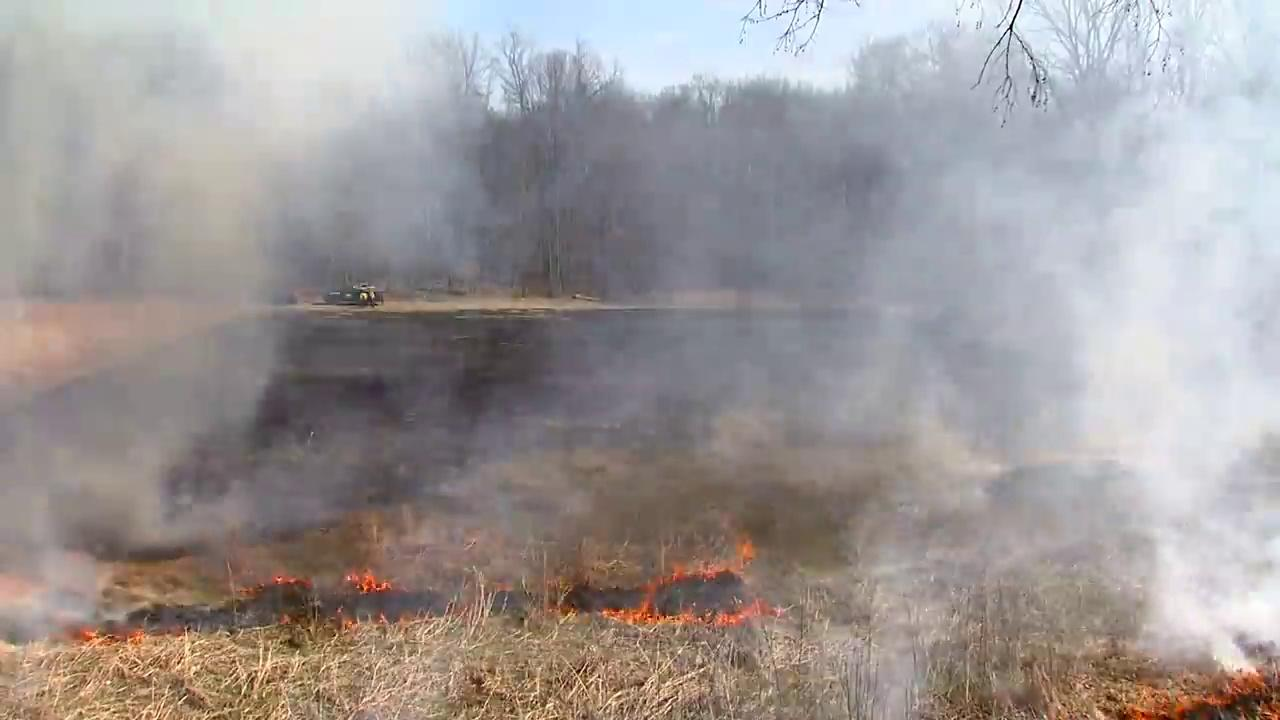Fire: (1124, 671, 1278, 720), (596, 602, 766, 627), (666, 541, 761, 584), (347, 573, 403, 594)
